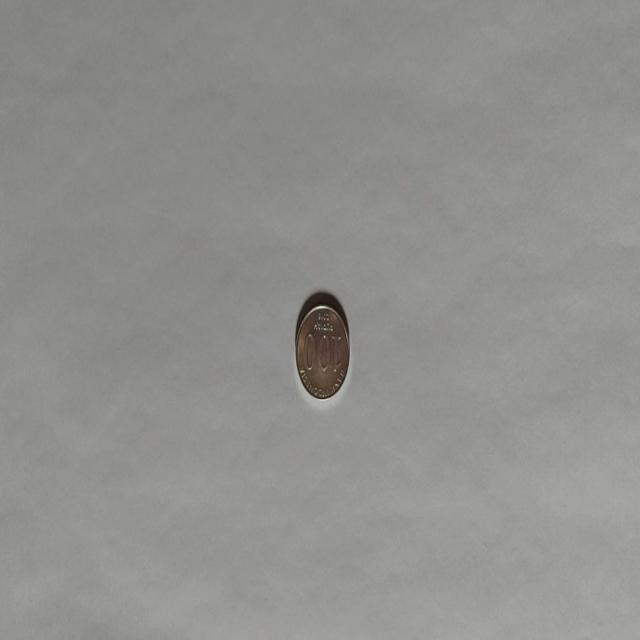seratus rupiah: (294, 299, 350, 401)
